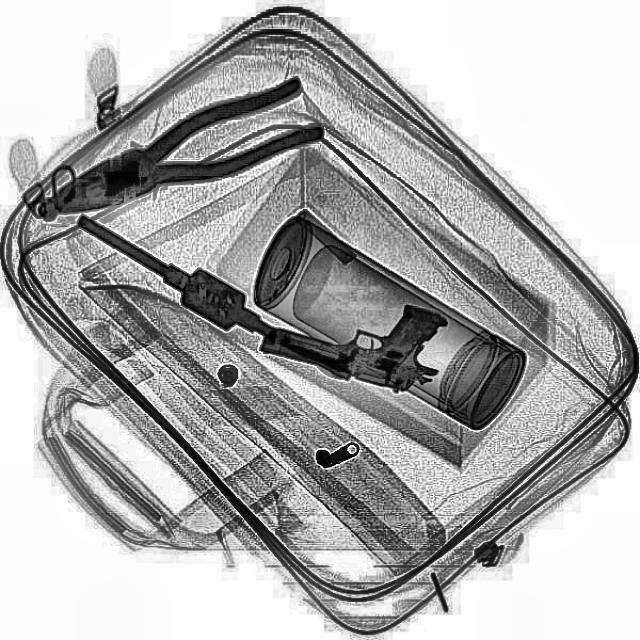Gun: (254, 269, 456, 403)
Pliers: (38, 70, 328, 238)
